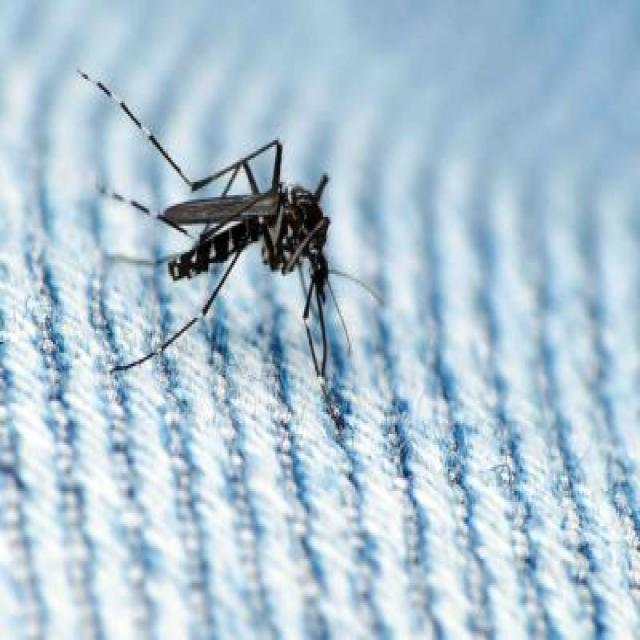antennae: (323, 261, 388, 365)
body: (172, 185, 326, 291)
insect: (73, 60, 380, 433)
legs: (78, 63, 280, 195), (110, 248, 250, 372), (294, 266, 344, 431)
wings: (163, 191, 278, 225)
